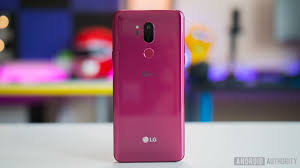lg: (107, 7, 188, 163)
